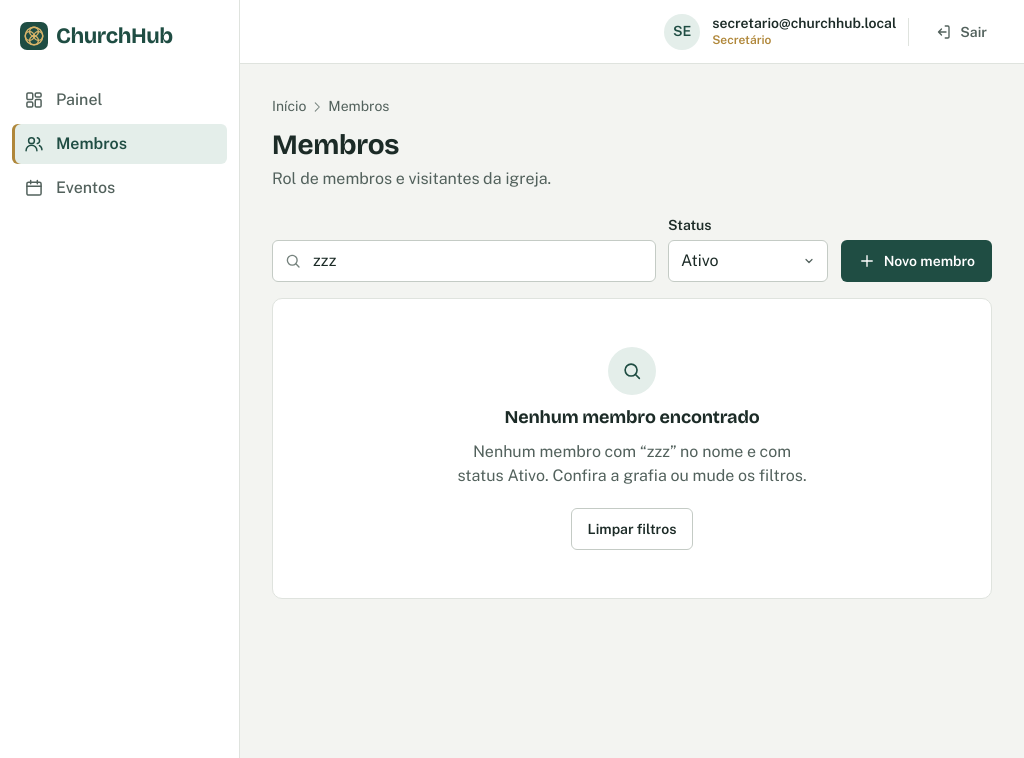
listagem de membros: pesquisa, filtro e ordenação › sem resultado com filtro: estado vazio e "Limpar filtros" limpa a URL
Expected: the heading "Nenhum membro encontrado" is shown, [504,407,759,428]
Expected: the text "“zzz” no nome e com status Ativo" is shown, [458,442,807,485]
Click the button "Limpar filtros" at coordinates (632, 529), box [571,508,693,550]
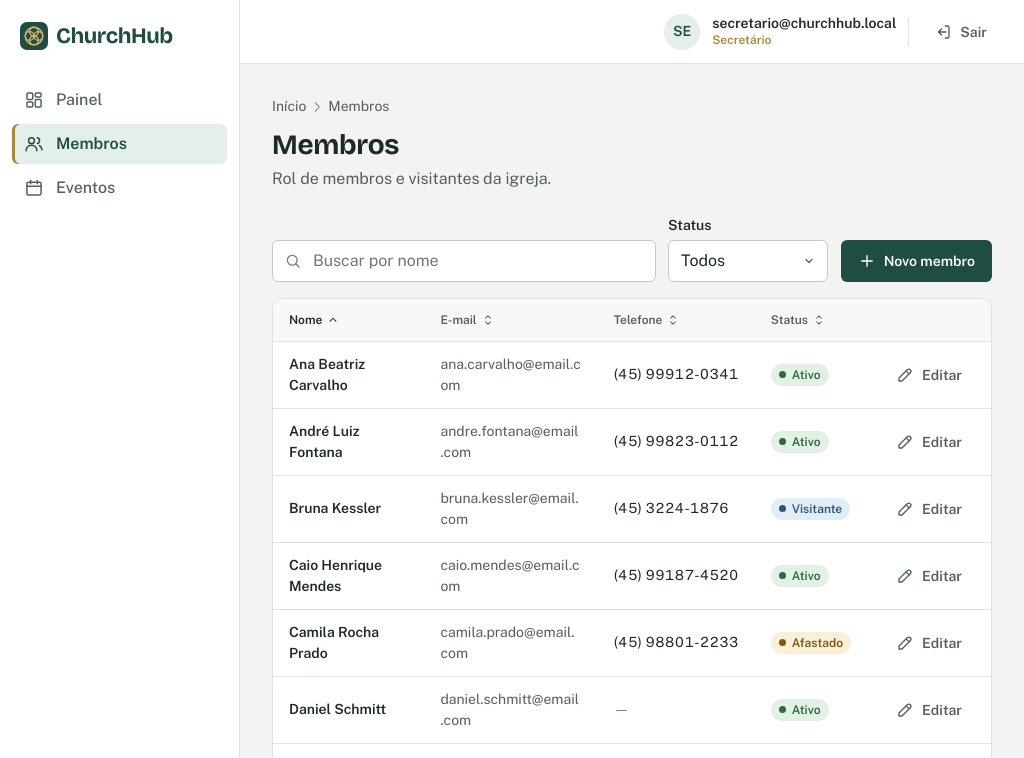
Expected: the search field named "Buscar membros por nome" is empty, [272,240,656,282]
